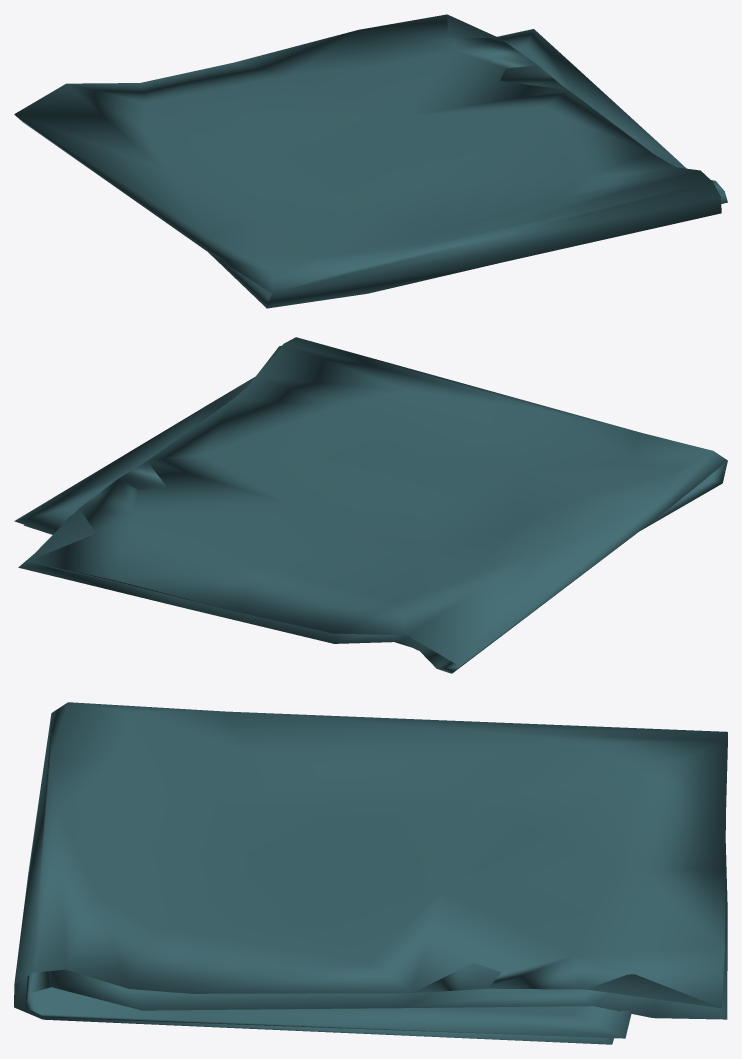
File: napkin.fbx
The picture shows the model from 3 angles, top to bottom: view 1: azimuth 30°, elevation 25°; view 2: azimuth 150°, elevation 25°; view 3: azimuth 270°, elevation 25°; orthographic projection. The views are drawn at different scales.
Visible parts, largest first — view 1: Plane; view 2: Plane; view 3: Plane.
Part boxes in pixels (left/top/right/bottom): Plane: left=14, top=14, right=727, bottom=308; Plane: left=14, top=337, right=727, bottom=673; Plane: left=14, top=702, right=727, bottom=1044.
Size of the model in its own units: 26.06 by 1.93 by 25.69.
